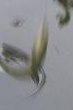Anguilla anguilla: (20, 20, 53, 90)
